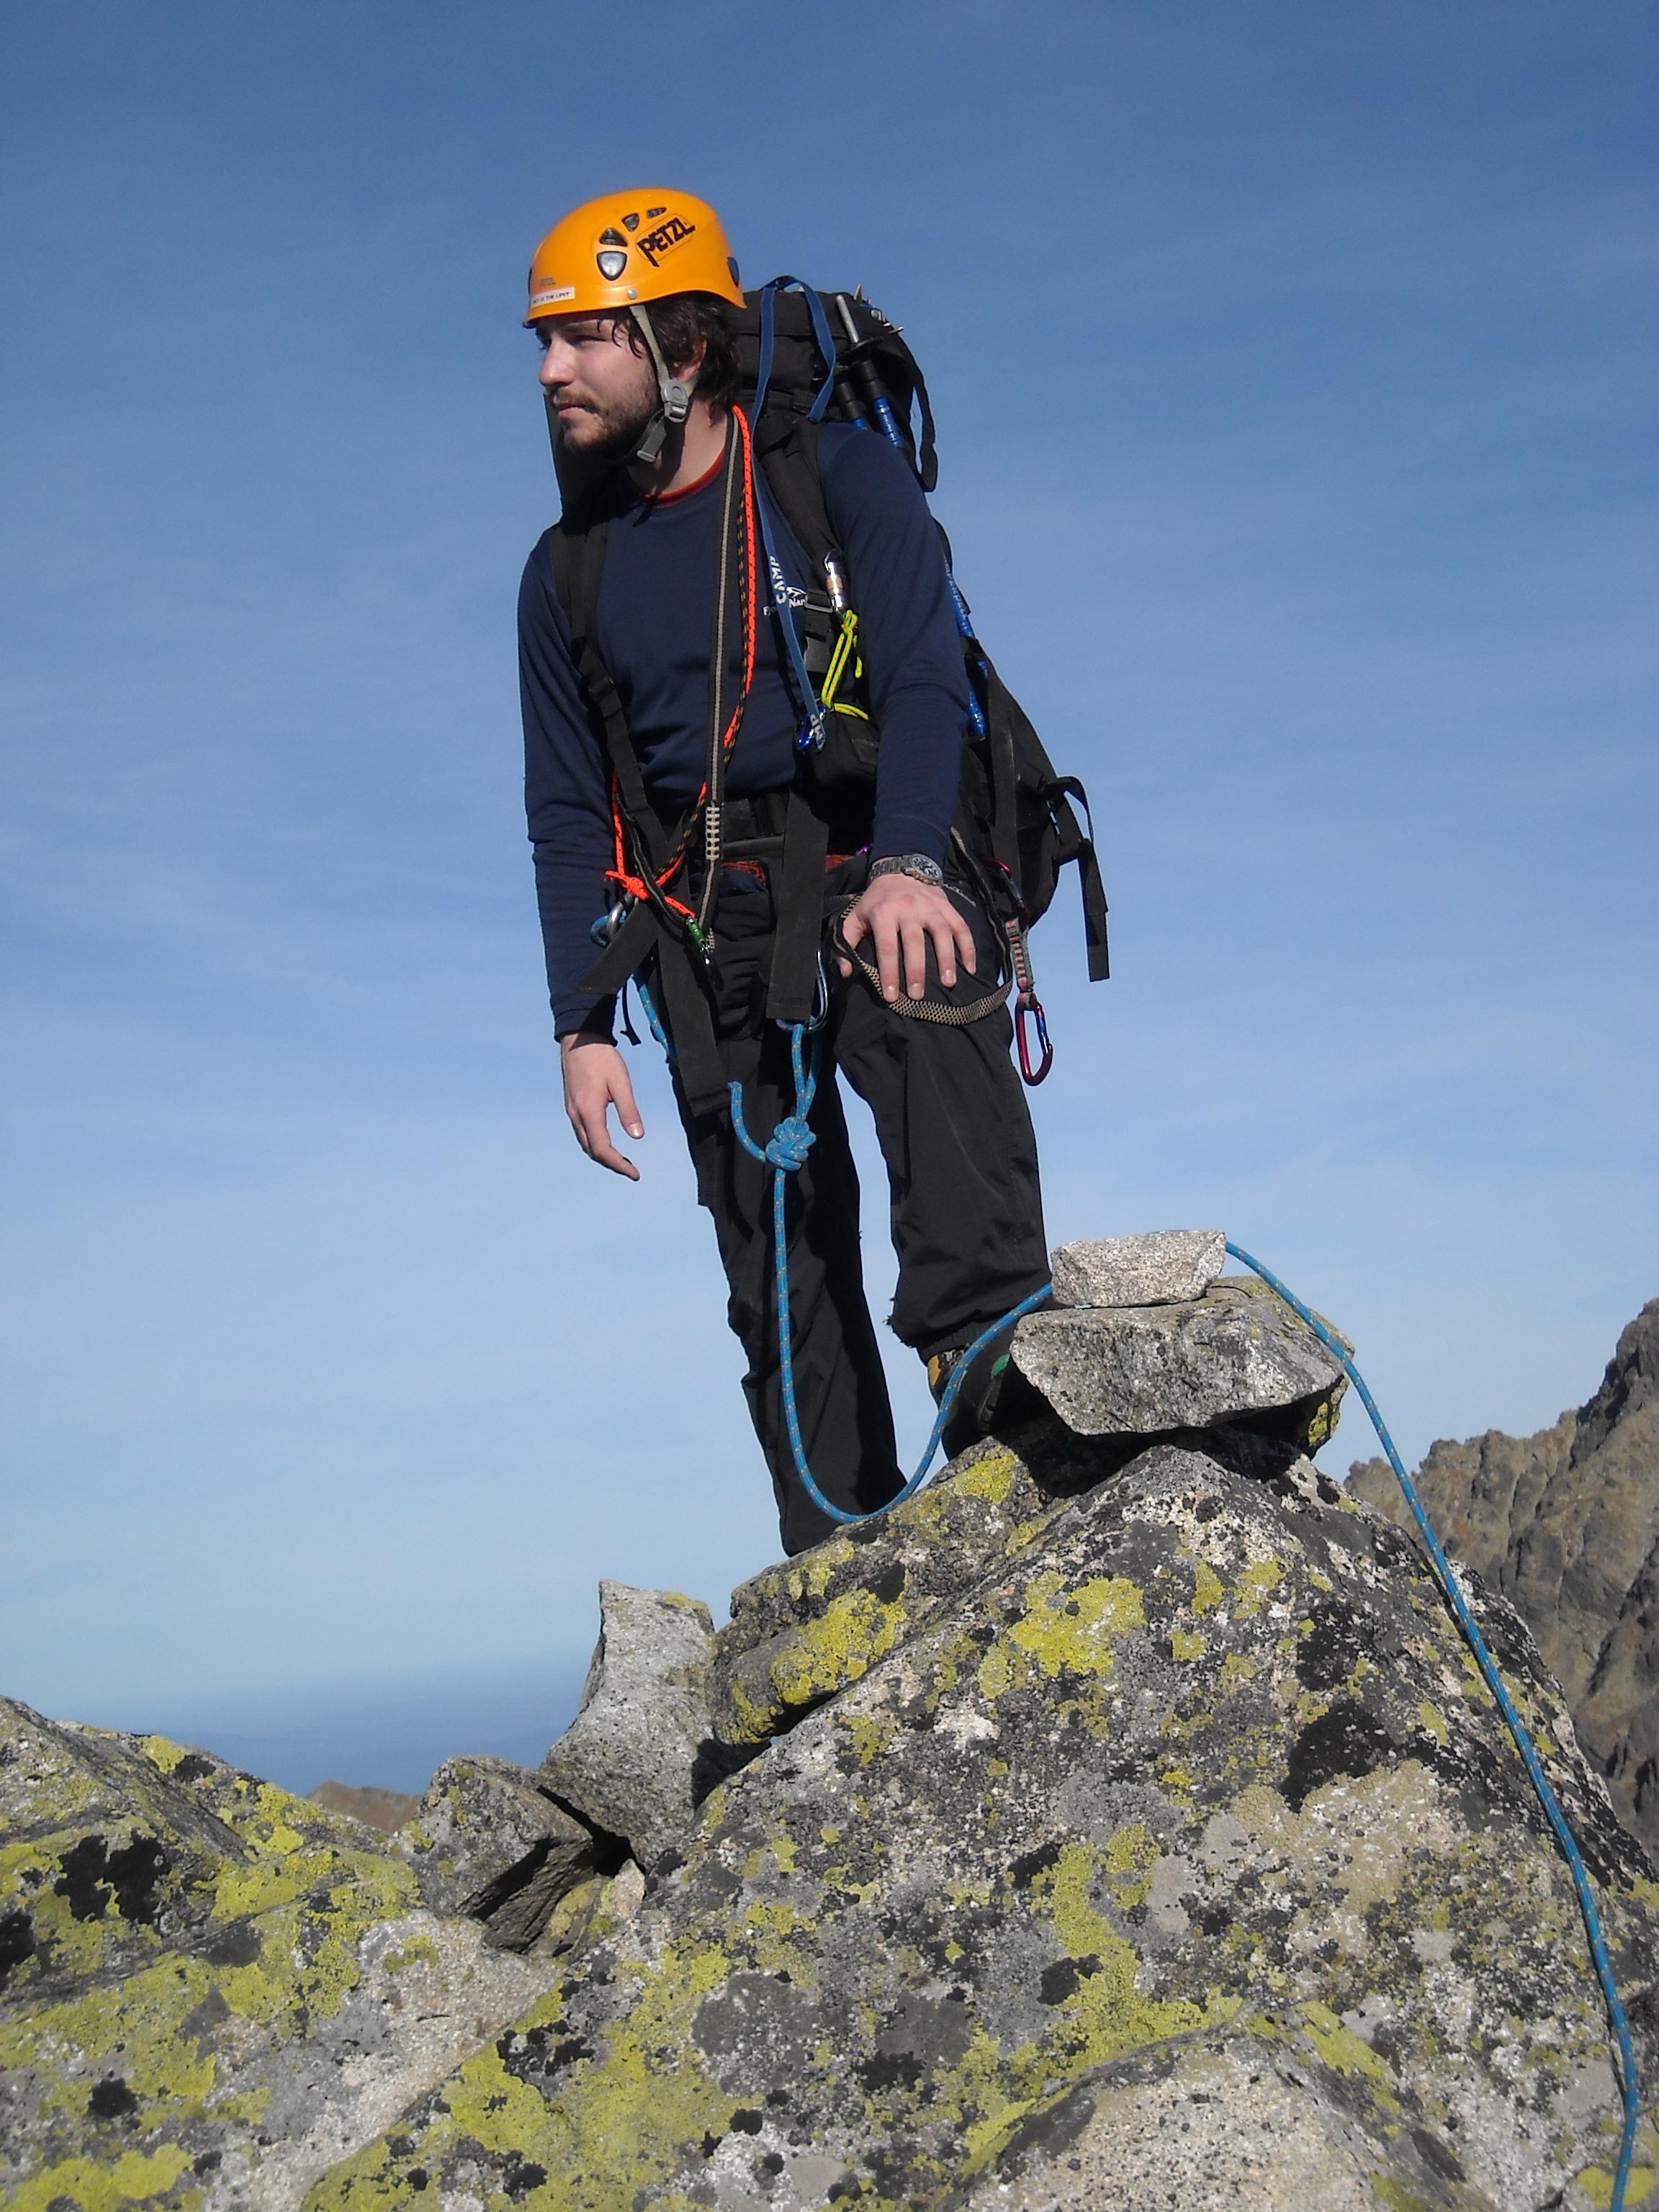helmet: (507, 171, 760, 350)
